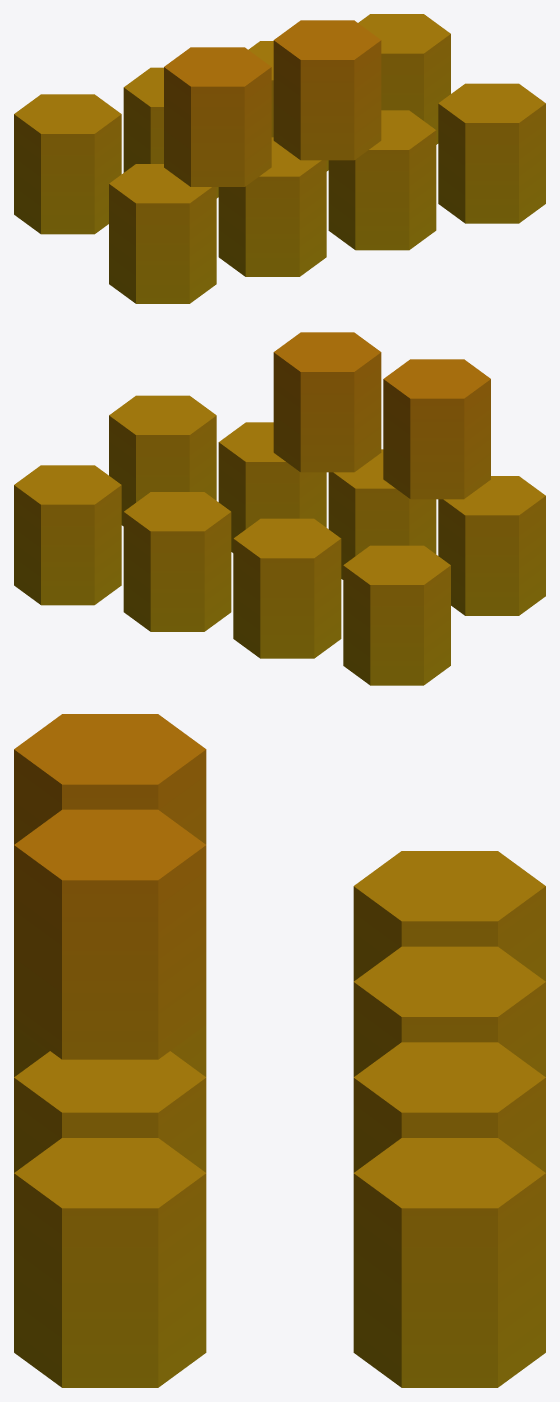
Rendered from SM_Etagere_Conserves_3.fbx.
The picture shows the model from 3 angles, top to bottom: view 1: azimuth 30°, elevation 25°; view 2: azimuth 150°, elevation 25°; view 3: azimuth 270°, elevation 25°; orthographic projection. The views are drawn at different scales.
Visible parts, largest first — view 1: SM_Etagere_Conserves_3_LOD0; view 2: SM_Etagere_Conserves_3_LOD0; view 3: SM_Etagere_Conserves_3_LOD0.
Boxes of the visible parts, x1,y1,x2,y2 form: SM_Etagere_Conserves_3_LOD0: (14, 14, 545, 303); SM_Etagere_Conserves_3_LOD0: (14, 332, 545, 685); SM_Etagere_Conserves_3_LOD0: (14, 714, 545, 1387).
Size of what is drawn, in the model's own units: 0.2989 by 0.142 by 0.188.
